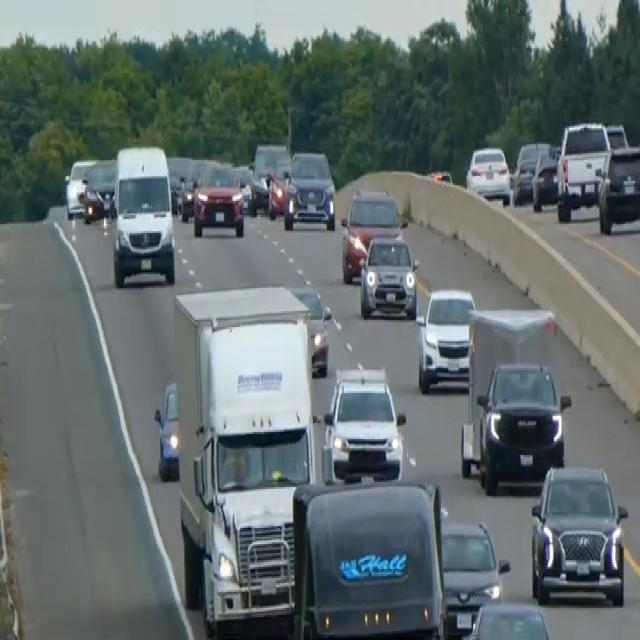car: (291, 475, 446, 638), (529, 462, 628, 606), (474, 357, 570, 491), (322, 364, 406, 482), (439, 518, 510, 638), (415, 284, 476, 393), (340, 186, 406, 282), (555, 119, 611, 221), (358, 231, 419, 318), (282, 148, 336, 231), (192, 158, 245, 236), (596, 142, 639, 235), (456, 598, 554, 638), (291, 281, 332, 375), (248, 140, 290, 212), (465, 143, 511, 205), (153, 379, 180, 480), (512, 138, 551, 204), (82, 156, 116, 222), (178, 157, 212, 220), (63, 156, 95, 218), (531, 150, 559, 212), (166, 153, 194, 211), (266, 160, 291, 219), (233, 162, 254, 213), (605, 121, 629, 151)
lorry: (172, 283, 319, 633)
minibus: (110, 140, 176, 288)
